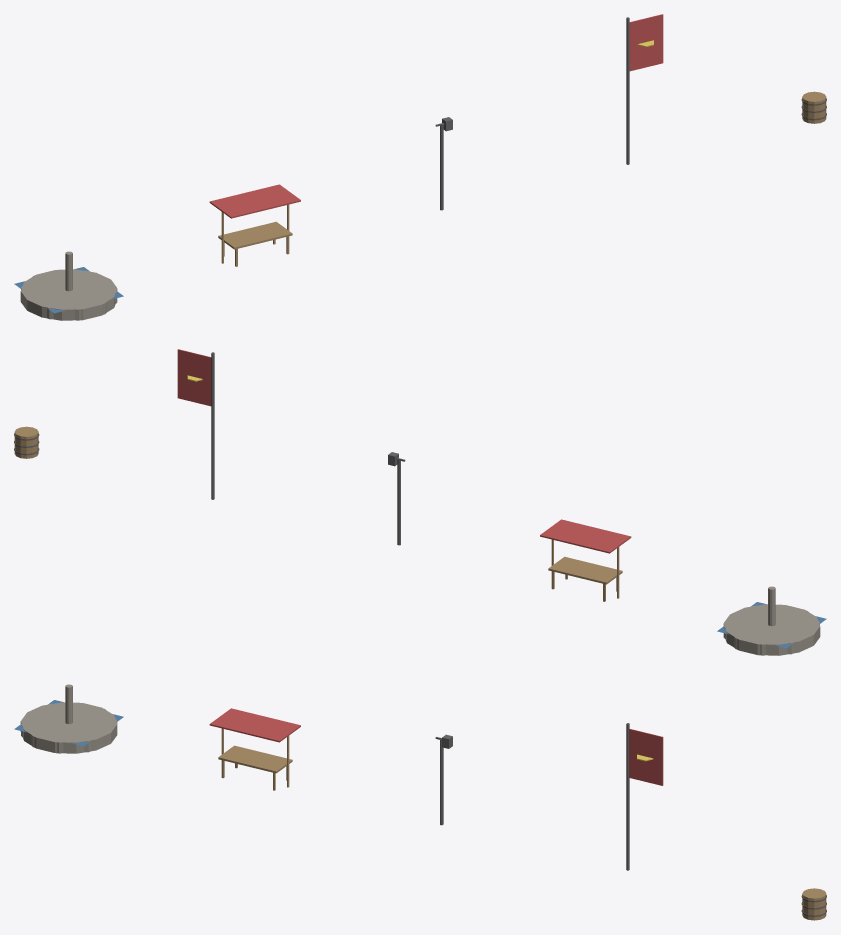
File: aldenmere_props.glb
3 views of the same model, one above another, from view 1: azimuth 30°, elevation 25°; view 2: azimuth 150°, elevation 25°; view 3: azimuth 330°, elevation 25° (orthographic).
Visible parts, largest first — view 1: Fountain_Basin, Fountain_Basin-col, Flag_Cloth, Canopy, MarketTable, Barrel_Body, FlagPole; view 2: Fountain_Basin, Fountain_Basin-col, Flag_Cloth, Canopy, MarketTable, Barrel_Body, FlagPole; view 3: Fountain_Basin, Fountain_Basin-col, Flag_Cloth, Canopy, MarketTable, Barrel_Body, FlagPole.
Boxes of the visible parts, bbox=[...] form: Fountain_Basin: bbox=[20, 269, 117, 320]; Fountain_Basin-col: bbox=[21, 269, 117, 320]; Flag_Cloth: bbox=[629, 14, 663, 71]; Canopy: bbox=[209, 184, 300, 218]; MarketTable: bbox=[218, 221, 292, 249]; Barrel_Body: bbox=[802, 91, 826, 123]; FlagPole: bbox=[626, 17, 629, 164]; Fountain_Basin: bbox=[723, 604, 820, 655]; Fountain_Basin-col: bbox=[723, 604, 819, 655]; Flag_Cloth: bbox=[177, 349, 211, 406]; Canopy: bbox=[540, 519, 631, 553]; MarketTable: bbox=[548, 556, 622, 584]; Barrel_Body: bbox=[14, 426, 38, 458]; FlagPole: bbox=[211, 352, 214, 499]; Fountain_Basin: bbox=[20, 702, 117, 753]; Fountain_Basin-col: bbox=[21, 702, 117, 753]; Flag_Cloth: bbox=[629, 728, 663, 785]; Canopy: bbox=[209, 708, 300, 742]; MarketTable: bbox=[218, 745, 292, 773]; Barrel_Body: bbox=[802, 888, 826, 920]; FlagPole: bbox=[626, 723, 629, 870].
Size of the model in its own units: 34.27 by 6 by 3.51.
